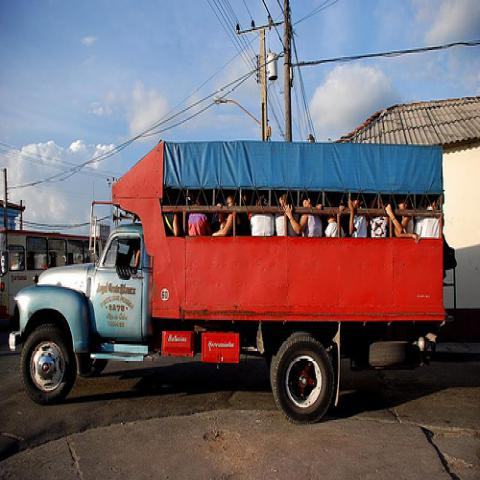truck: (14, 145, 444, 427)
